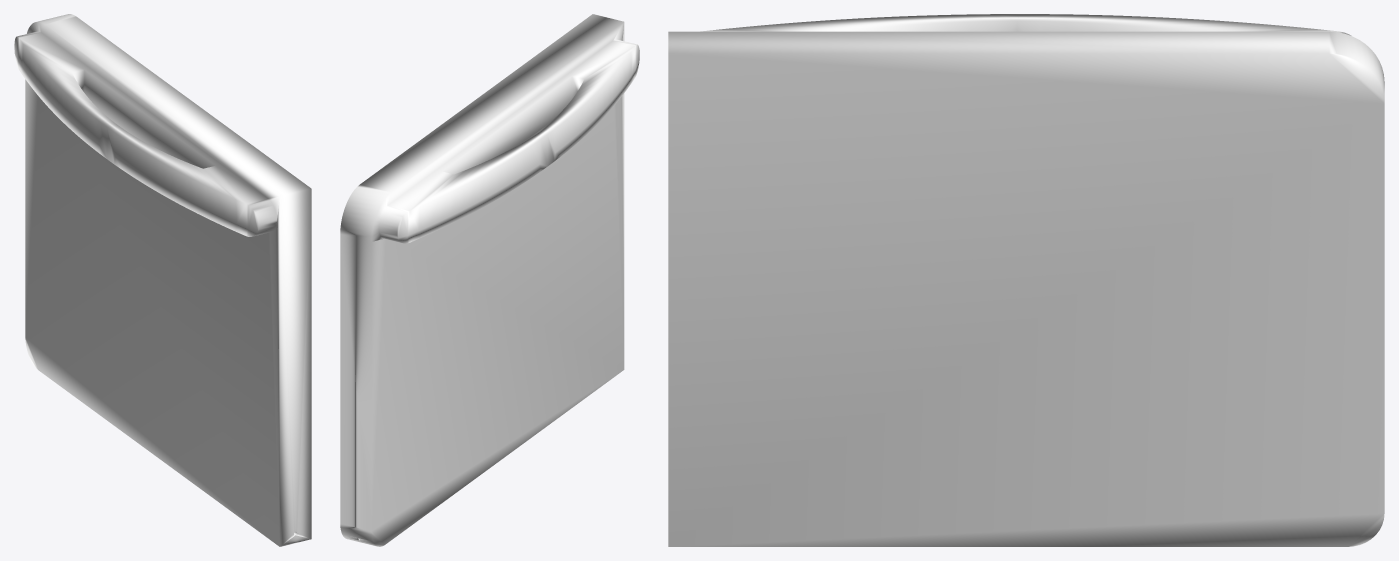
The model's file is microwaveOvenDoor.dae.
3 views of the same model, side by side, from view 1: azimuth 30°, elevation 25°; view 2: azimuth 150°, elevation 25°; view 3: azimuth 270°, elevation 25° (orthographic). The views are drawn at different scales.
Visible parts, largest first — view 1: transform1; view 2: transform1; view 3: transform1.
Boxes of the visible parts, x1,y1,x2,y2 form: transform1: (14,14,311,546); transform1: (340,14,639,546); transform1: (668,14,1384,546).
Size of the model in its own units: 0.07 by 0.295 by 0.388.
Materials: 1 (1 with a texture image).
